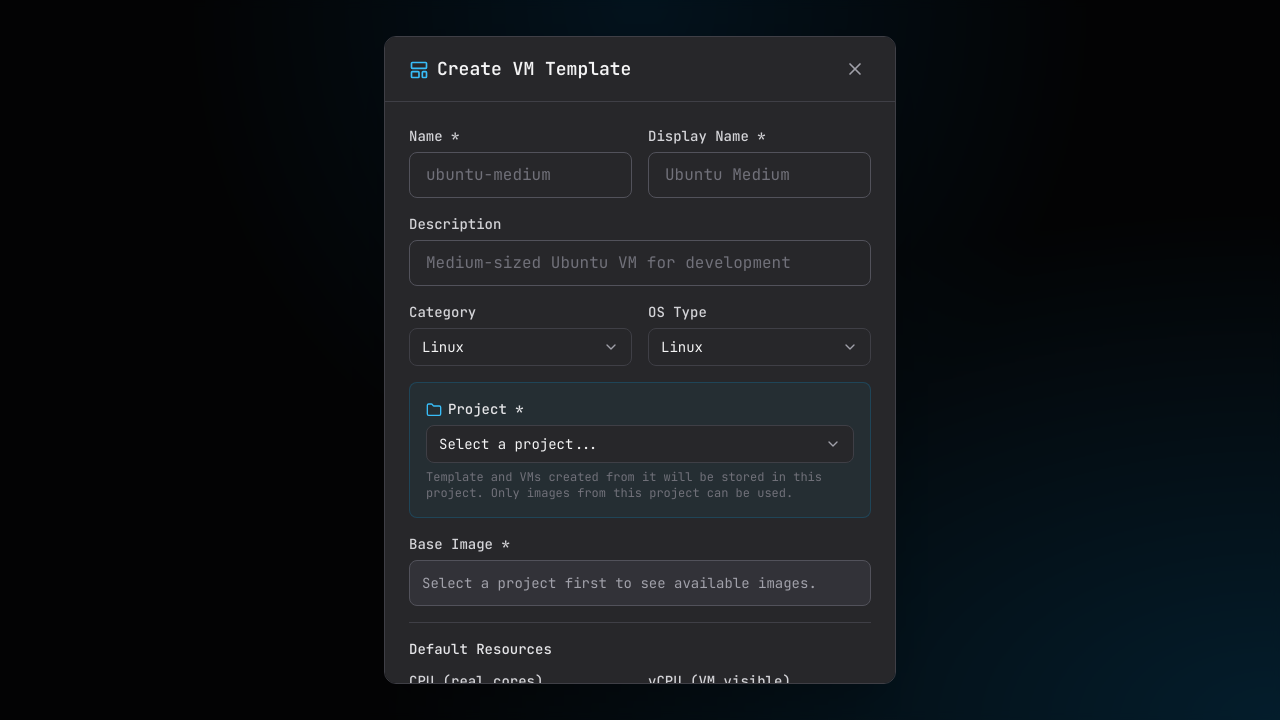
Test: the template form does not re-import an already-materialised catalogue image › never attempts template creation when the import itself fails, and surfaces the failure
The image size is (1280, 720).
In the field with placeholder "ubuntu-medium": (520, 175) [409,152,632,198], type "my-template"
In the field with placeholder "Ubuntu Medium": (760, 175) [648,152,871,198], type "My Template"
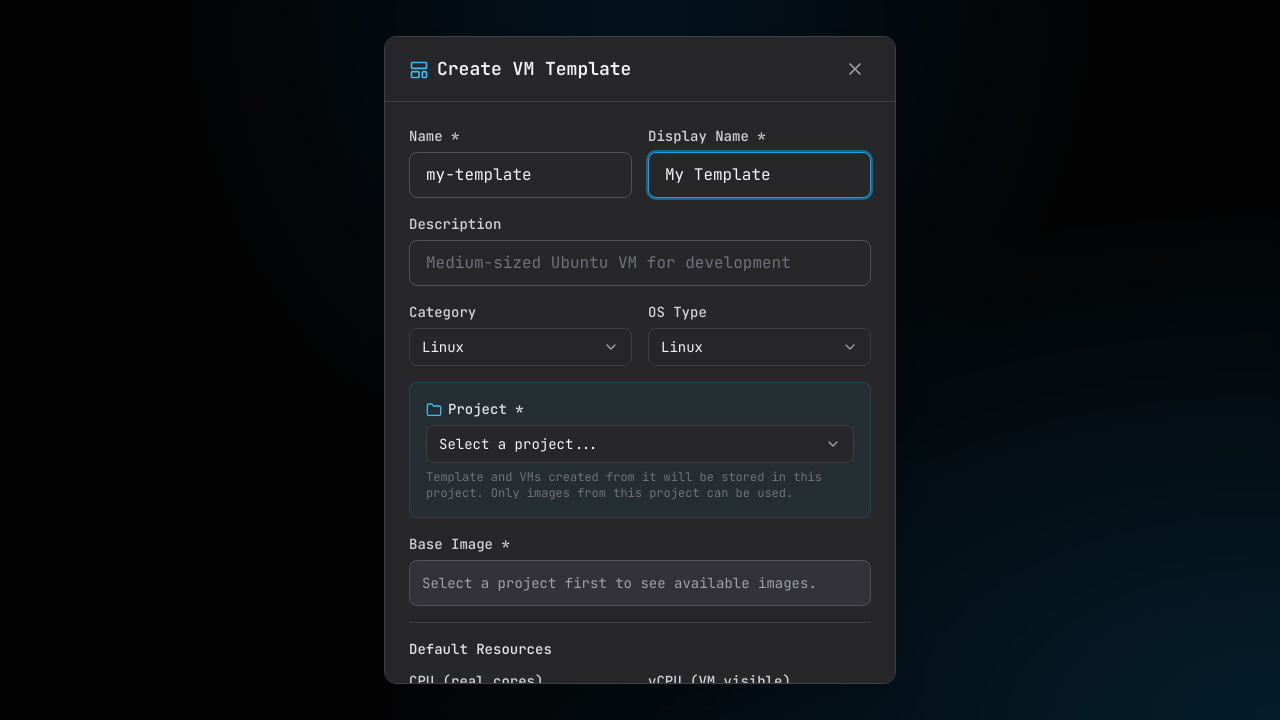
Click the button "Select a project...": (519, 444) [426,425,854,463]
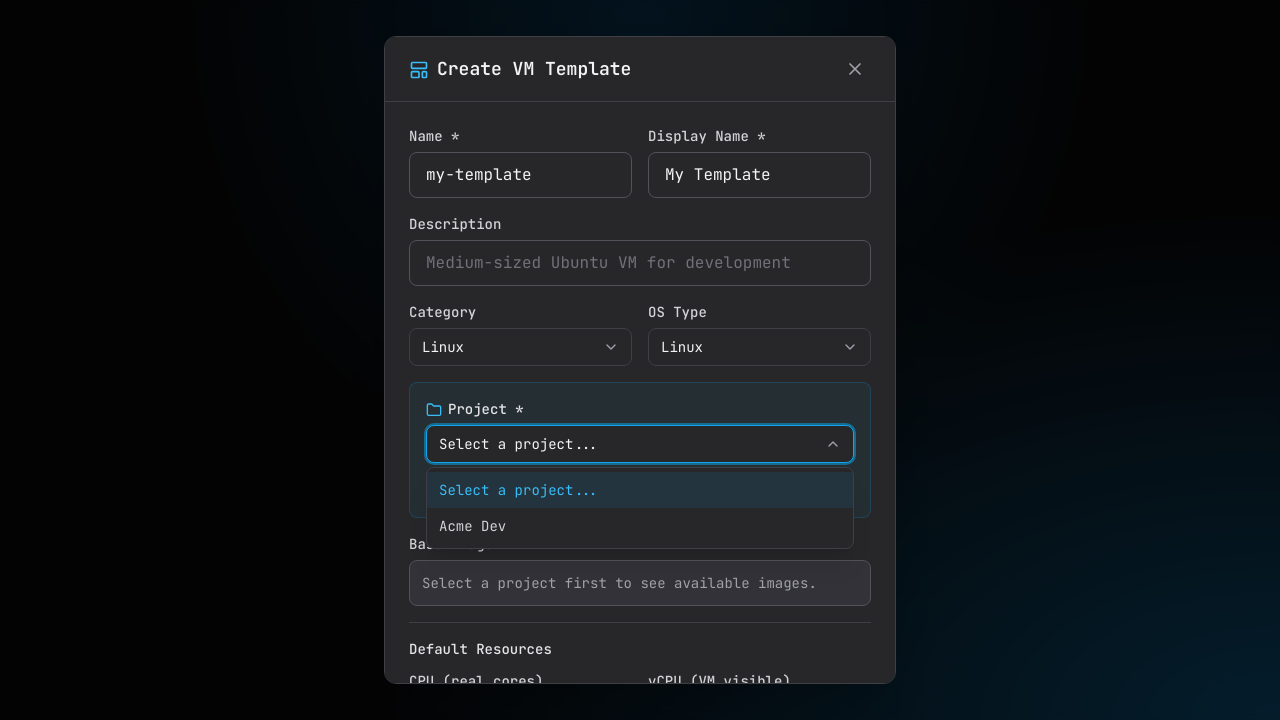
Click the button "Acme Dev": (473, 526) [427,508,853,544]
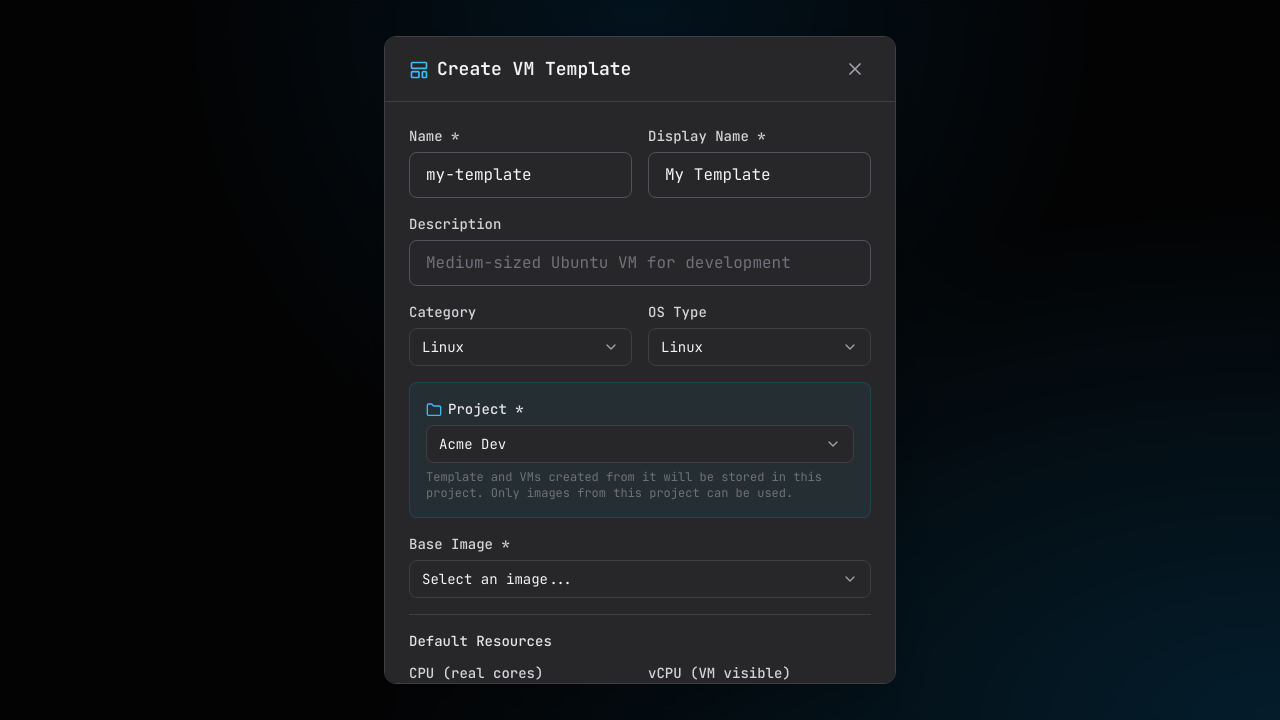
Click the button "Select an image...": (498, 579) [409,560,871,598]
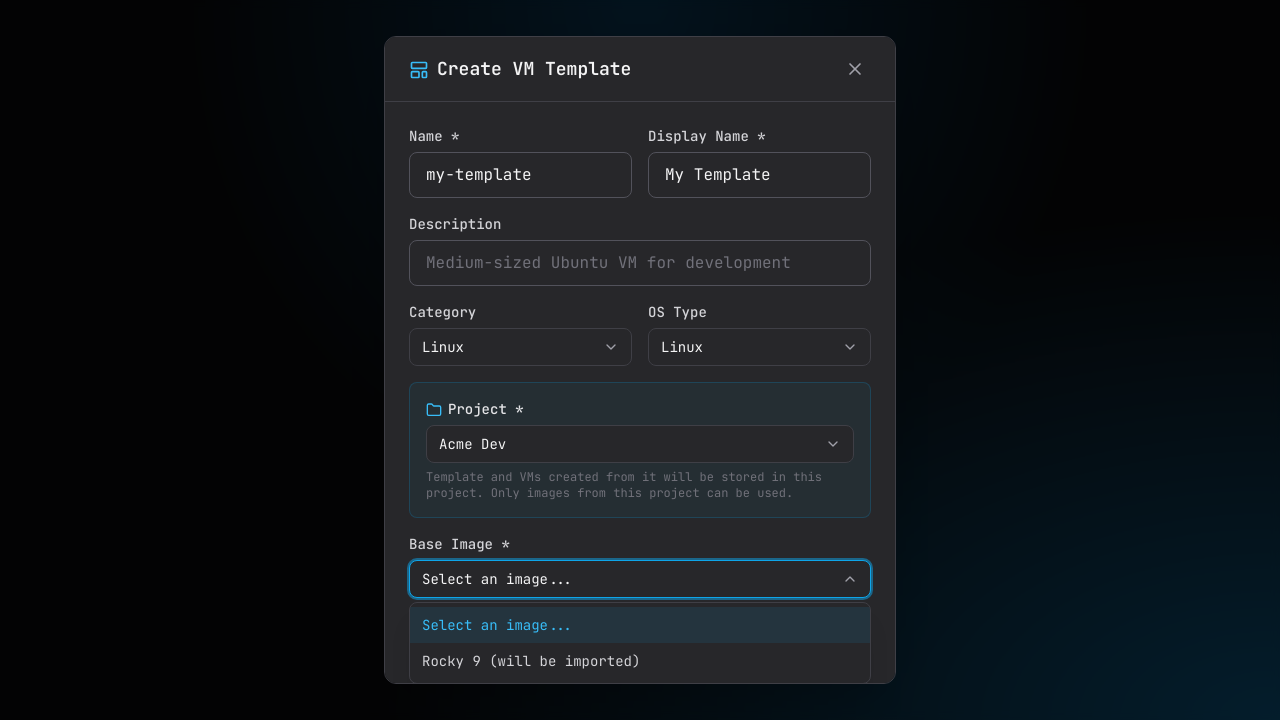
Click the button "Rocky 9 (will be imported)": (640, 661) [410,643,870,679]
(page scrolled)
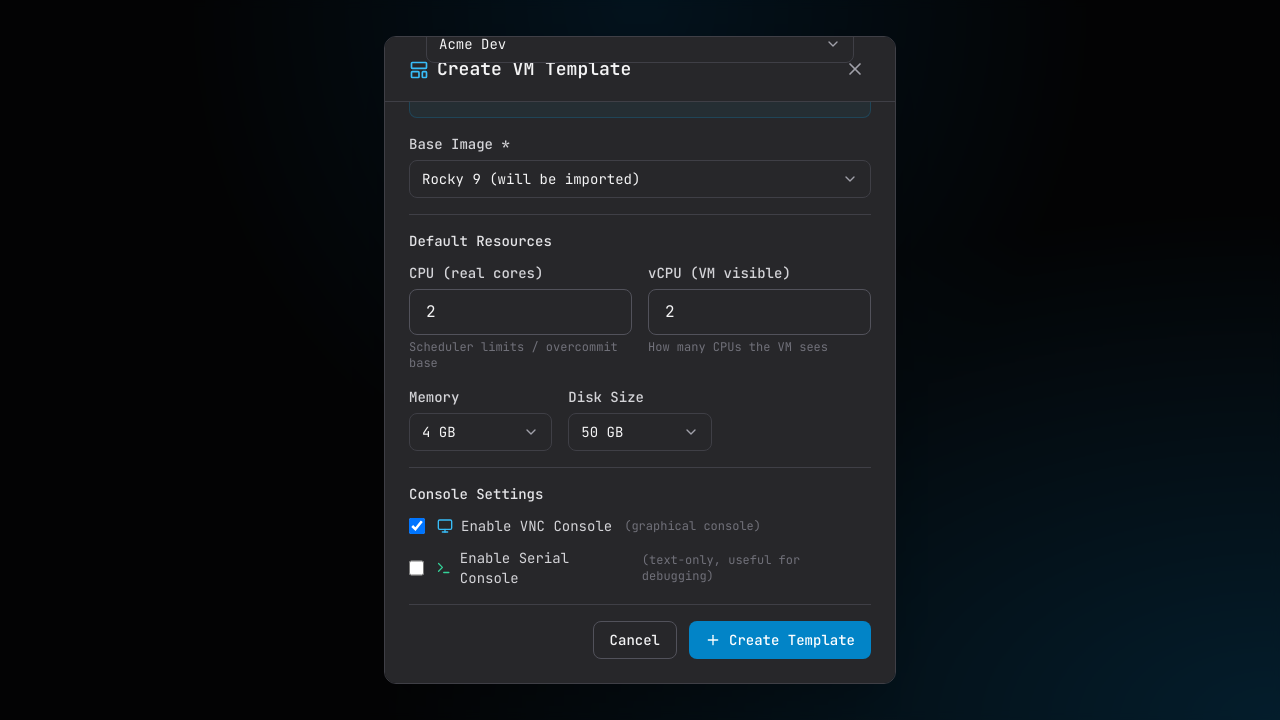
Click the button "Create Template": (780, 640) [689,621,871,659]
(page scrolled)
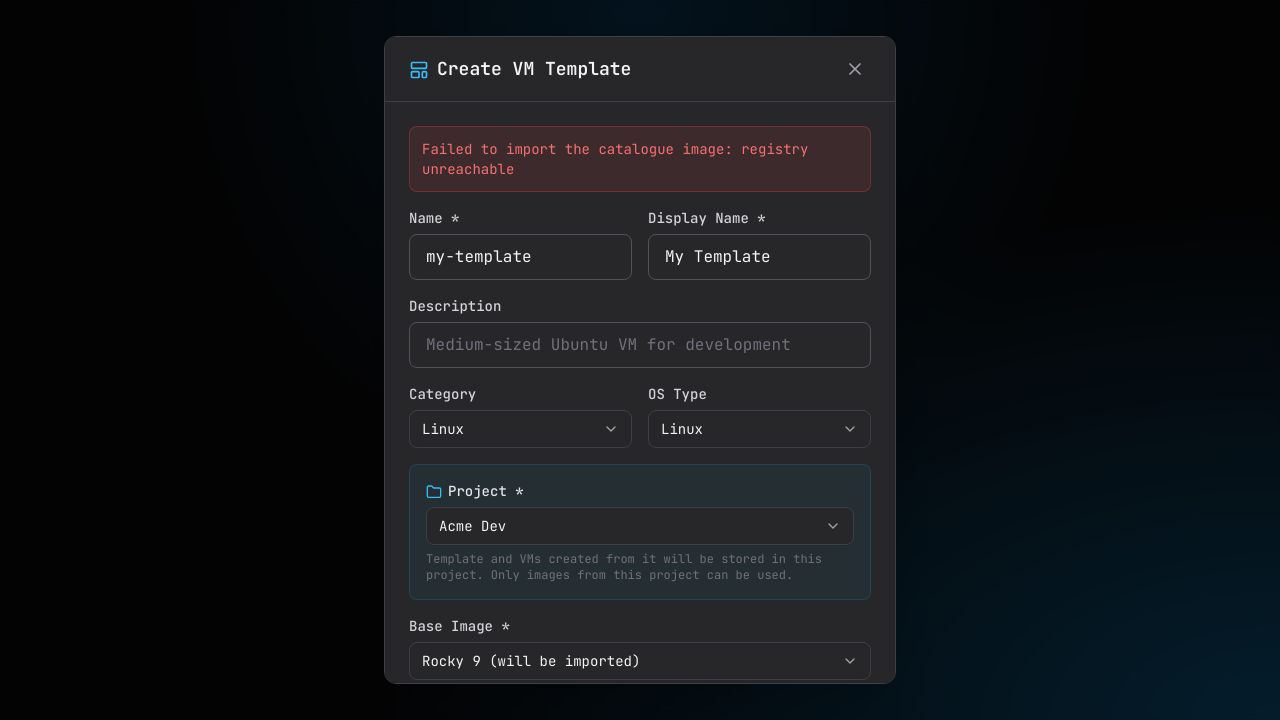
Now the text "Failed to import the catalogue image: registry unreachable" is shown, box [409,126,871,192]
